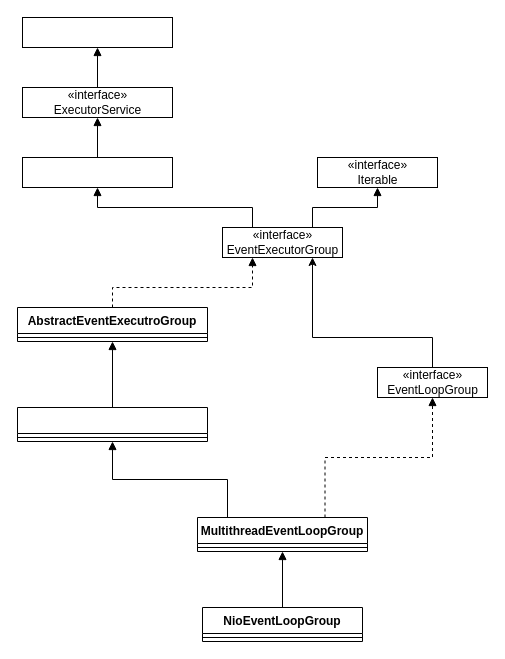
Image size: 505x659. Some labels were removed from this diagram. Here are the shapes that lost their labels. From the top down, the centre of each, then its label:
At (97,32): "«interface» Executor".
At (97,172): "«interface» ScheduleExecutorService".
At (112,424): "MultithreadEventExecutorGroup".
